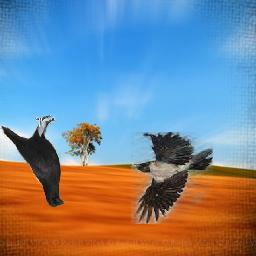Crow: (131, 132, 213, 224), (0, 114, 64, 208)
